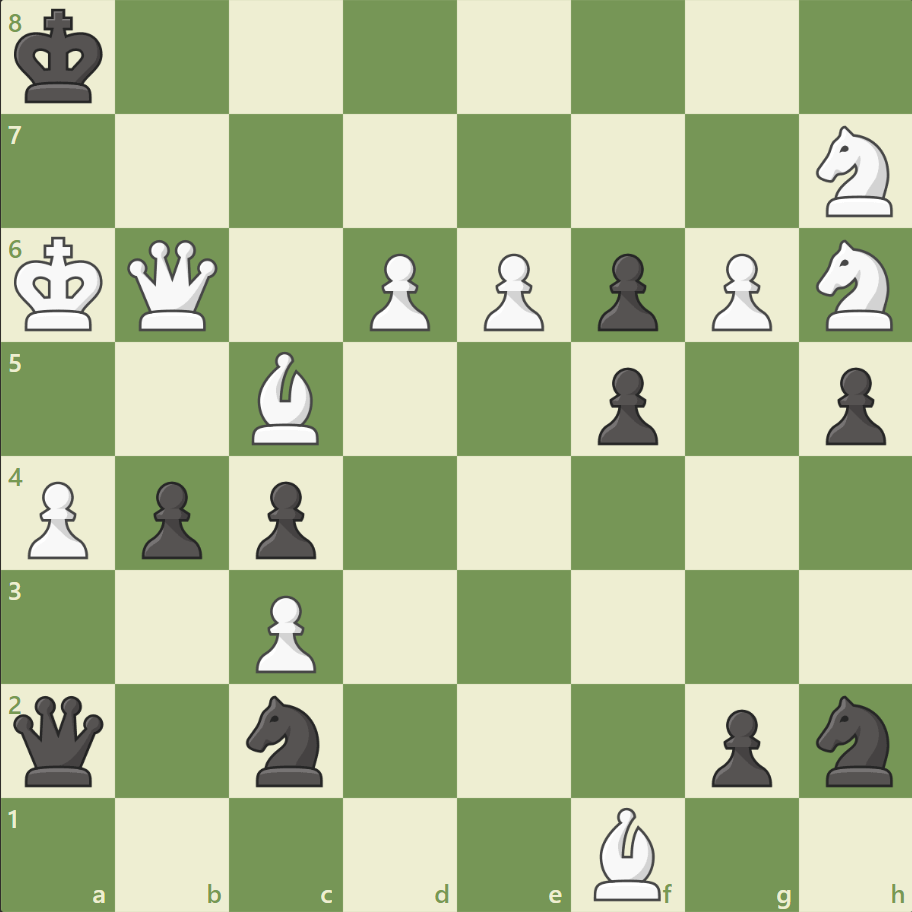B: (585, 801, 669, 904), (244, 347, 328, 449)
K: (11, 231, 111, 339)
N: (806, 234, 903, 337), (806, 121, 903, 223)
P: (474, 246, 549, 337), (701, 246, 776, 337), (20, 473, 95, 564), (247, 586, 322, 677), (361, 246, 435, 337)
Q: (124, 236, 223, 335)
k: (11, 4, 111, 112)
n: (238, 688, 335, 791), (806, 688, 903, 791)
p: (133, 473, 208, 564), (247, 473, 322, 564), (701, 700, 776, 791), (588, 246, 662, 337), (588, 359, 662, 450), (815, 359, 889, 450)
q: (10, 690, 109, 789)
